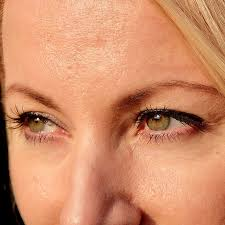pupil: (146, 114, 170, 132), (26, 116, 47, 132)
